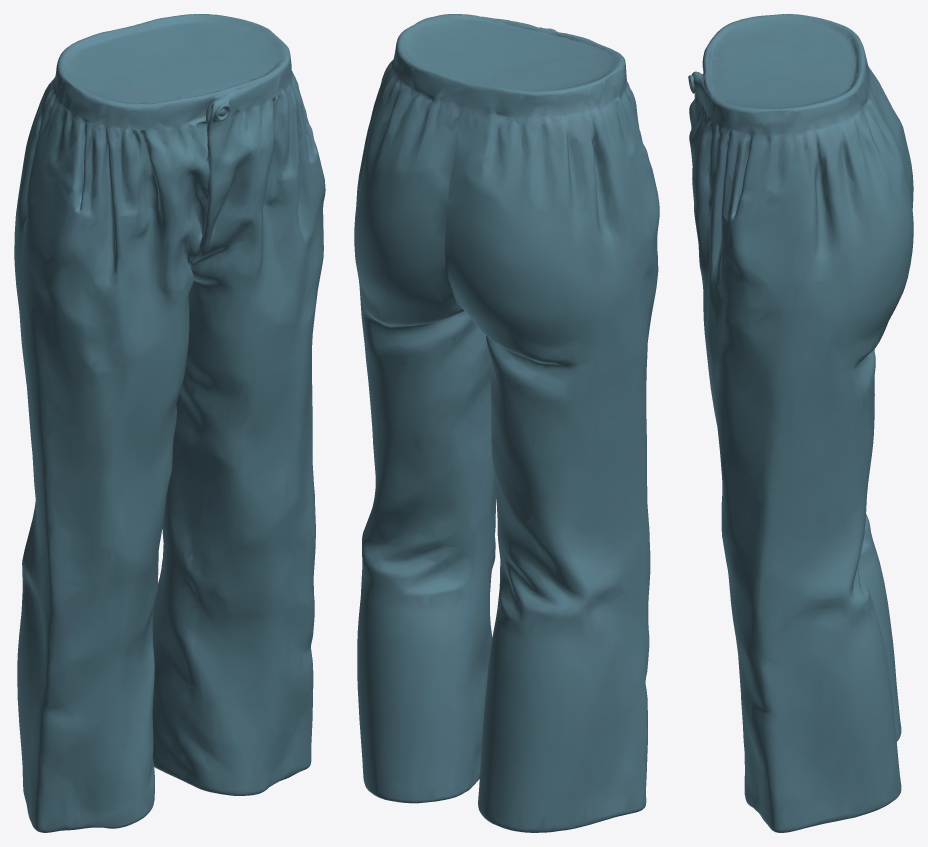
3 renders of one model, left to right at view 1: azimuth 30°, elevation 25°; view 2: azimuth 150°, elevation 25°; view 3: azimuth 270°, elevation 25°, orthographic. The views are drawn at different scales.
Parts seen in each view (by area): view 1: tripo_node_d9950848-a16b-401c-b15e-dc9e6392b275; view 2: tripo_node_d9950848-a16b-401c-b15e-dc9e6392b275; view 3: tripo_node_d9950848-a16b-401c-b15e-dc9e6392b275.
Part boxes in pixels (left/top/right/bottom): tripo_node_d9950848-a16b-401c-b15e-dc9e6392b275: left=14, top=14, right=325, bottom=832; tripo_node_d9950848-a16b-401c-b15e-dc9e6392b275: left=354, top=14, right=659, bottom=832; tripo_node_d9950848-a16b-401c-b15e-dc9e6392b275: left=688, top=14, right=913, bottom=832.
Bounding box in the file's own units: 0.3891 × 0.9998 × 0.2875.
1 material, 1 textured.
